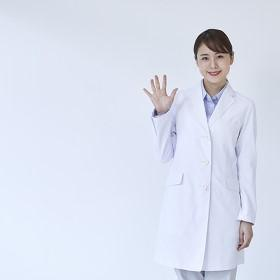pa-: (142, 74, 179, 112)
